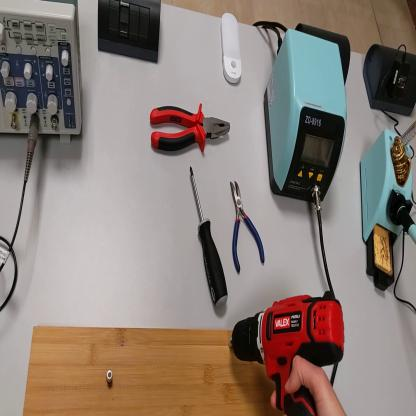electric screwdriver: (232, 295, 345, 416)
hand: (273, 357, 344, 415)
oscilloscope: (2, 3, 84, 147)
pliers: (151, 103, 232, 151), (229, 181, 266, 277)
screwdriver-: (190, 166, 230, 308)
socket: (364, 40, 416, 121), (298, 22, 352, 87)
welder base: (360, 125, 414, 294)
welder probe tip: (400, 206, 416, 246)
welder station: (266, 30, 349, 206)
working area: (24, 327, 282, 416)
